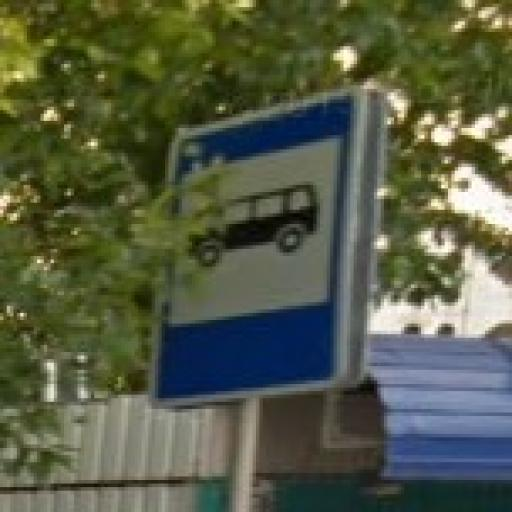traffic_sign: (146, 86, 371, 410)
